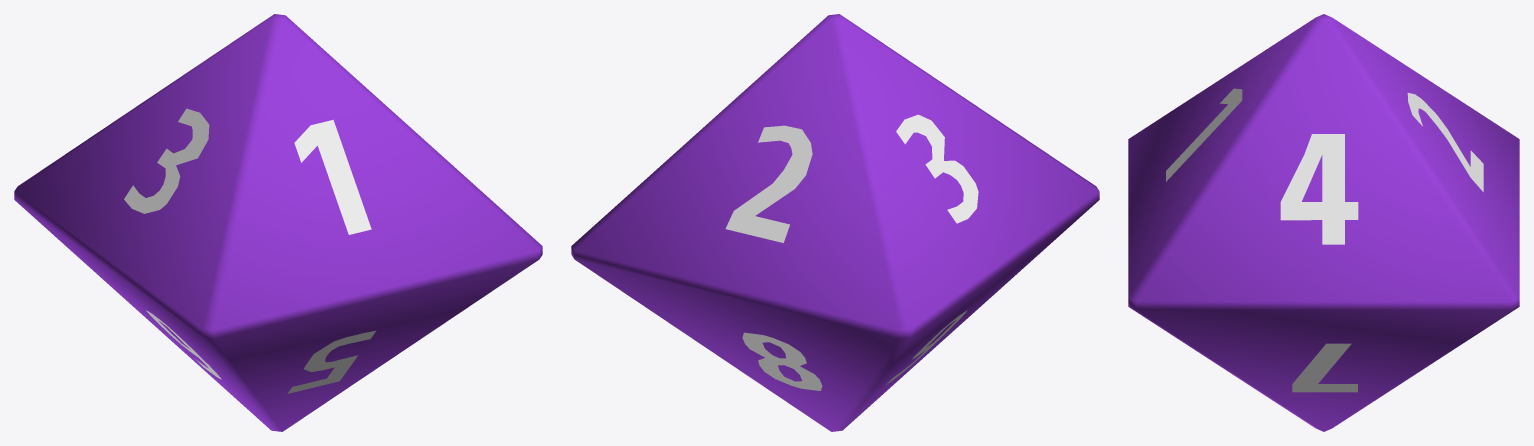
The picture shows the model from 3 angles, left to right: view 1: azimuth 30°, elevation 25°; view 2: azimuth 150°, elevation 25°; view 3: azimuth 270°, elevation 25°; orthographic projection.
Parts seen in each view (by area): view 1: 8-Sided-Die; view 2: 8-Sided-Die; view 3: 8-Sided-Die.
Part boxes in pixels (<box>): 8-Sided-Die: <box>14,14,542,431</box>; 8-Sided-Die: <box>571,14,1099,431</box>; 8-Sided-Die: <box>1128,14,1519,431</box>.
Bounding box in the file's own units: 102 × 118 × 102.
Materials: 2 (2 with a texture image).
